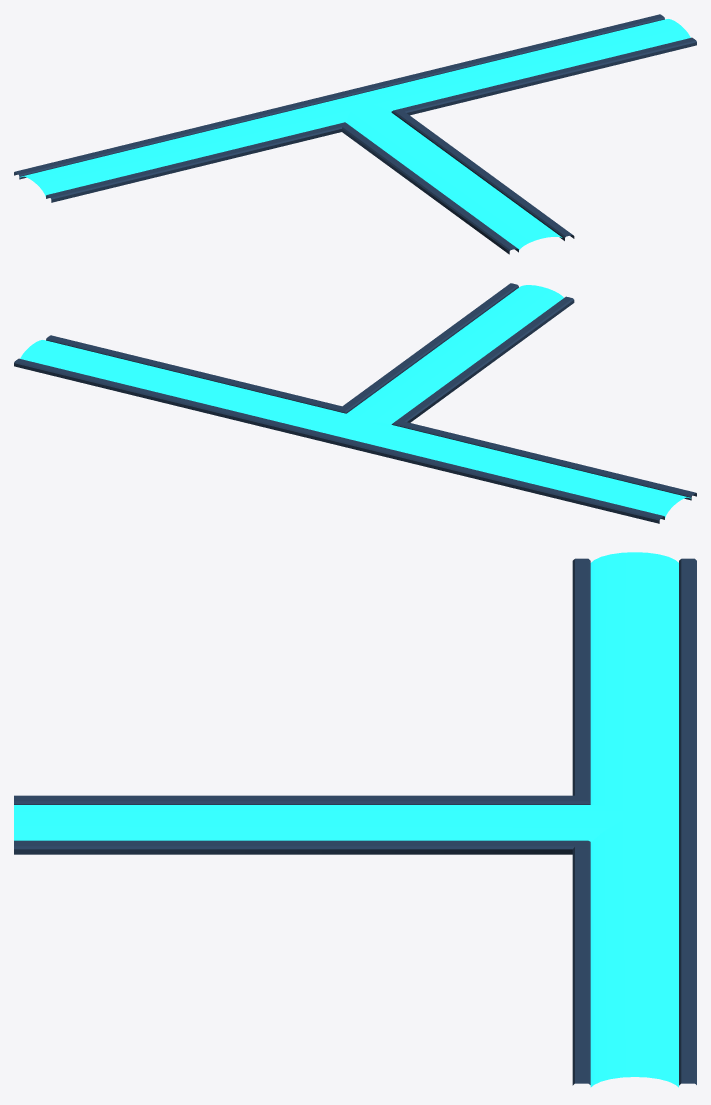
The model's file is Light_Trim_01_SquareCrossT.glb.
The picture shows the model from 3 angles, top to bottom: view 1: azimuth 30°, elevation 25°; view 2: azimuth 150°, elevation 25°; view 3: azimuth 270°, elevation 25°; orthographic projection. The views are drawn at different scales.
Parts seen in each view (by area): view 1: Light_Trim_01_SquareCrossT.001; view 2: Light_Trim_01_SquareCrossT.001; view 3: Light_Trim_01_SquareCrossT.001.
Boxes of the visible parts, box(x1,y1,x2,y2) form: Light_Trim_01_SquareCrossT.001: box(14, 14, 696, 254); Light_Trim_01_SquareCrossT.001: box(14, 283, 696, 523); Light_Trim_01_SquareCrossT.001: box(14, 552, 696, 1087).
Bounding box in the file's own units: 1 × 0.0123 × 0.55.
